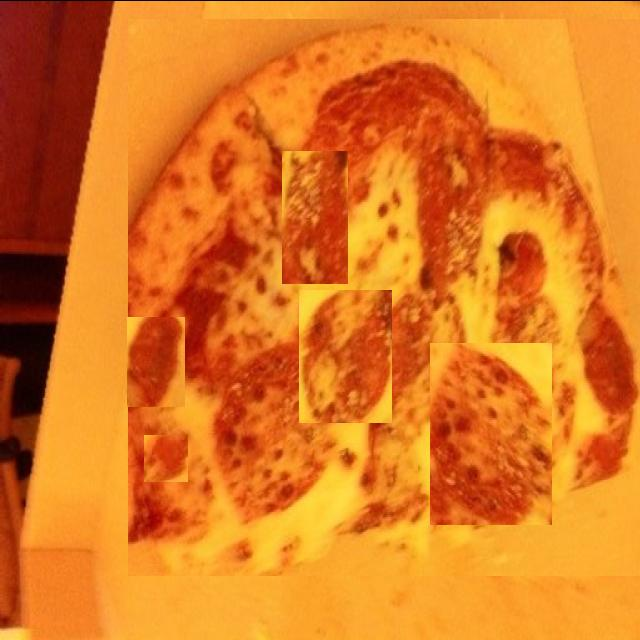pepperoni: (430, 342, 552, 524), (299, 289, 392, 422), (282, 150, 348, 283), (127, 316, 185, 406), (216, 232, 270, 304), (144, 434, 188, 481)
pizza: (128, 18, 640, 575)
